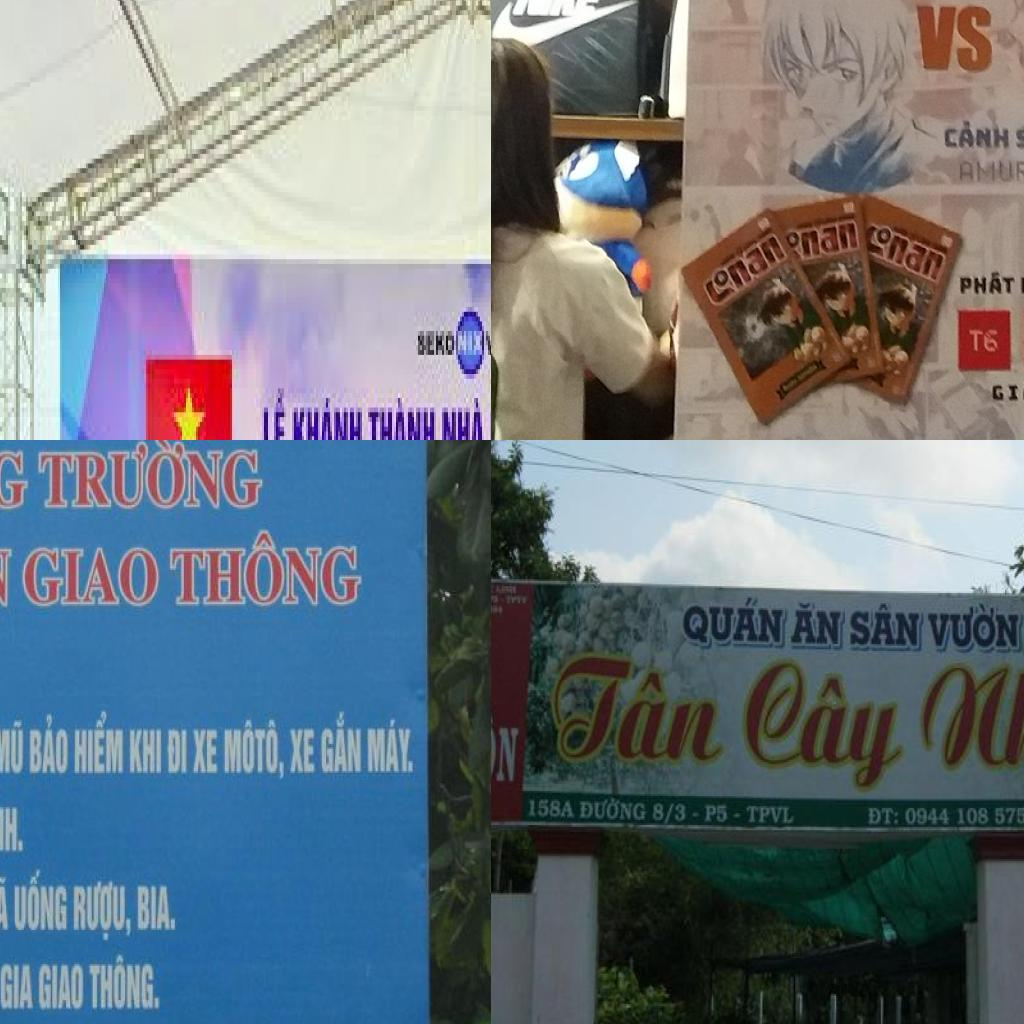text: (738, 651, 906, 791), (552, 639, 728, 769), (168, 527, 368, 616), (35, 440, 265, 516), (918, 657, 1024, 784), (24, 537, 162, 611), (679, 591, 790, 649), (915, 0, 998, 74), (703, 236, 787, 308), (859, 221, 948, 285), (925, 601, 1024, 656), (222, 717, 288, 783), (846, 598, 924, 653), (71, 877, 134, 945), (288, 388, 366, 440), (14, 868, 68, 938), (74, 710, 125, 780), (368, 393, 438, 440), (320, 706, 363, 778), (789, 600, 846, 652), (903, 804, 1024, 828), (366, 718, 416, 776), (29, 713, 71, 778), (938, 115, 1011, 152), (38, 960, 87, 1014), (135, 880, 180, 937), (491, 707, 523, 785), (438, 393, 488, 440), (954, 157, 1024, 188), (802, 222, 859, 260), (579, 796, 649, 825), (507, 0, 610, 19), (0, 960, 36, 1013), (128, 726, 164, 776), (958, 266, 1014, 298), (416, 322, 458, 364), (260, 383, 290, 440), (0, 798, 26, 863), (0, 716, 26, 779), (289, 720, 317, 775), (192, 724, 221, 776), (745, 803, 798, 828), (526, 798, 579, 822), (166, 726, 189, 776), (987, 378, 1024, 408), (458, 326, 484, 365), (650, 799, 689, 825), (968, 325, 1000, 355), (864, 804, 902, 828), (703, 801, 730, 827), (0, 871, 11, 933), (1012, 118, 1024, 151), (692, 811, 702, 820), (732, 811, 742, 820)
